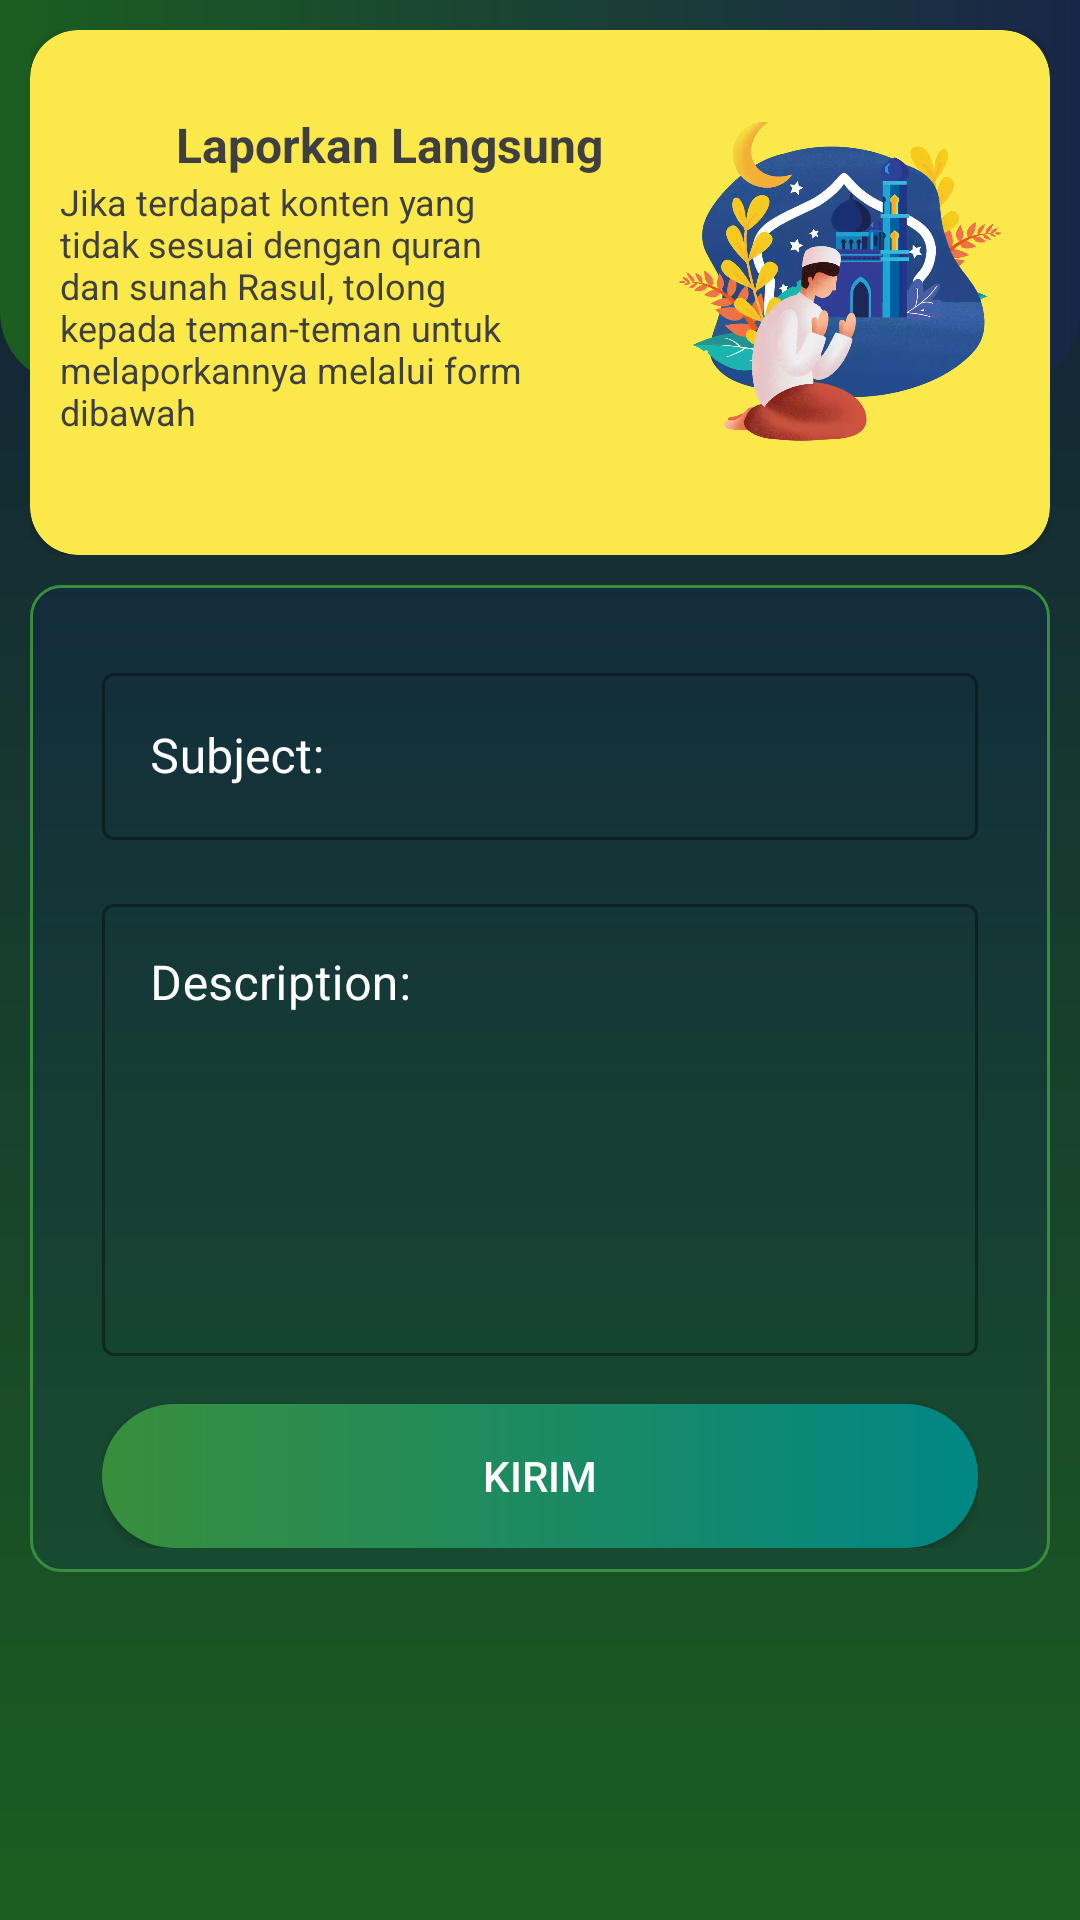

Icon bounding boxes for this 1080px×1920px phone screenshot, format BBox(x1, y1, x2, y2):
duas reminder: BBox(679, 122, 1001, 441)
